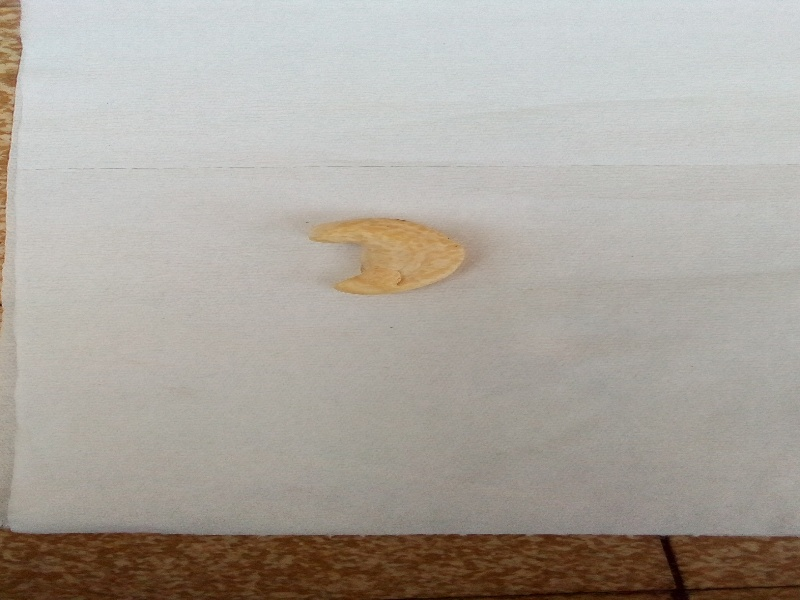cashew: (283, 201, 492, 314)
